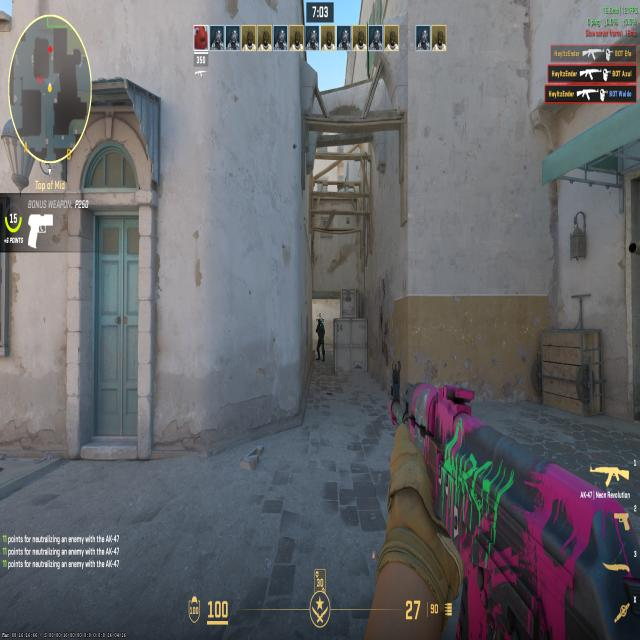ct: (314, 316, 326, 363)
